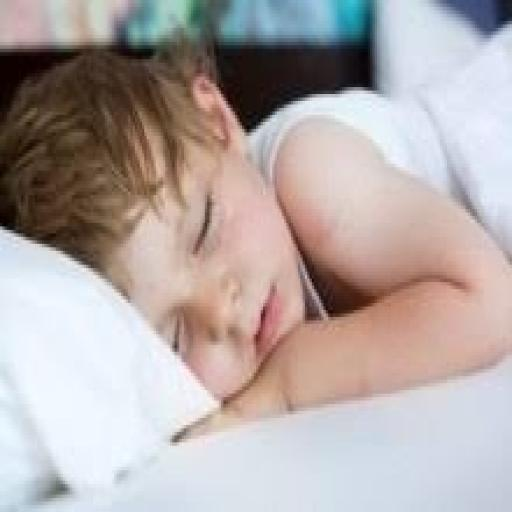sleeping: (0, 24, 510, 439)
